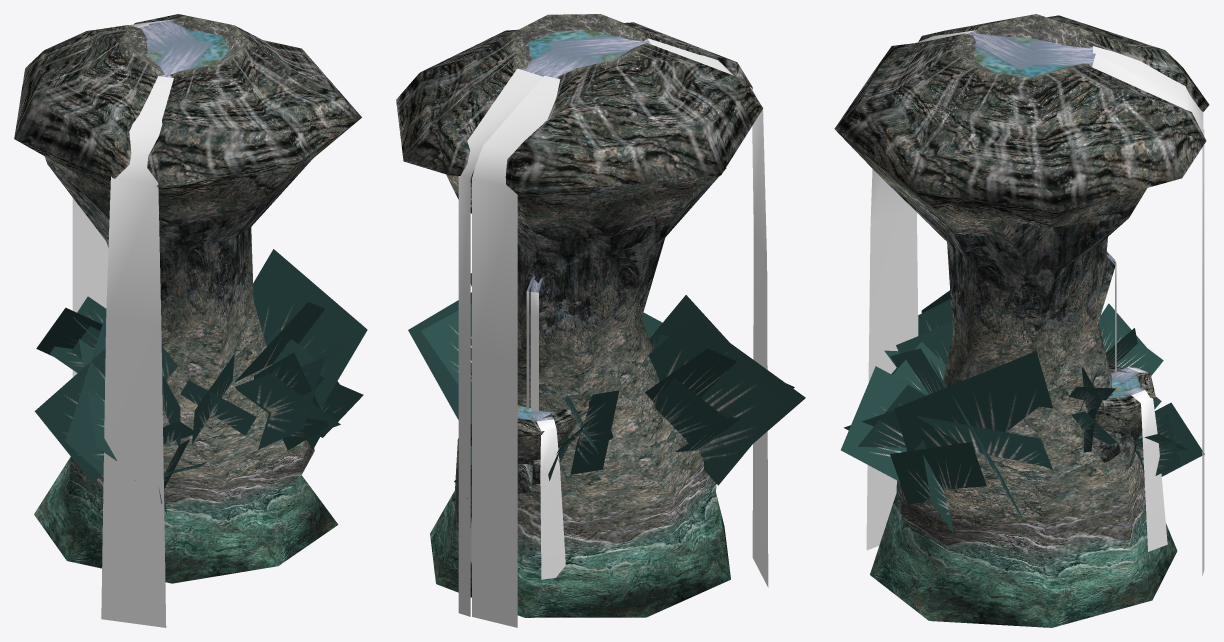
The model's file is rock_crystl_geyser_lrg_l2.fbx.
3 views of the same model, side by side, from view 1: azimuth 30°, elevation 25°; view 2: azimuth 150°, elevation 25°; view 3: azimuth 270°, elevation 25° (orthographic). The views are drawn at different scales.
Parts seen in each view (by area): view 1: mesh_node; view 2: mesh_node; view 3: mesh_node.
Part boxes in pixels (x1,y1,x2,y2): mesh_node: (14, 14, 367, 627); mesh_node: (396, 14, 805, 627); mesh_node: (834, 14, 1209, 627).
Size of the model in its own units: 25.69 by 37.27 by 22.81.
